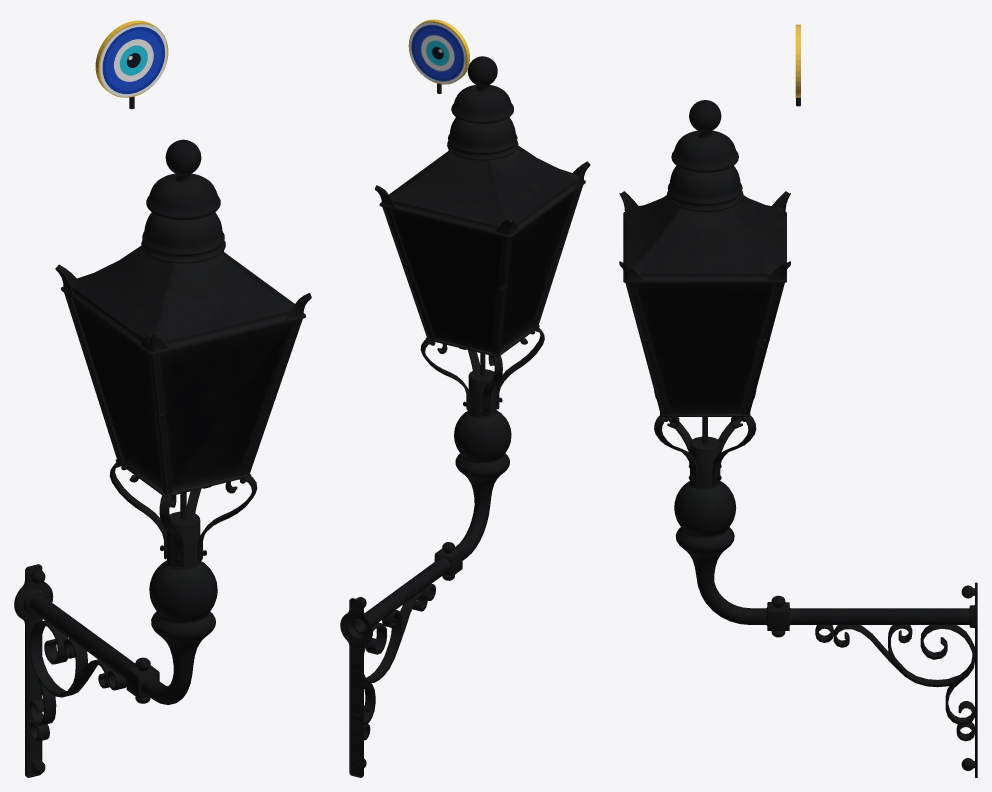
Rendered from nyb_kong_lamp.glb.
3 renders of one model, left to right at view 1: azimuth 30°, elevation 25°; view 2: azimuth 150°, elevation 25°; view 3: azimuth 270°, elevation 25°, orthographic. The views are drawn at different scales.
Parts seen in each view (by area): view 1: street_lamp_02, add_nazar_die.png, Cylinder; view 2: street_lamp_02, add_nazar_die.png, Cylinder; view 3: street_lamp_02.
Part boxes in pixels (x1,y1,x2,y2): street_lamp_02: (14,139,311,777); add_nazar_die.png: (100,24,167,96); Cylinder: (95,20,168,97); street_lamp_02: (340,56,590,777); add_nazar_die.png: (409,22,465,83); Cylinder: (408,19,469,84); street_lamp_02: (619,100,977,777).
Size of the model in its own units: 0.3867 by 1.86 by 0.8069.
6 materials, 4 textured.
